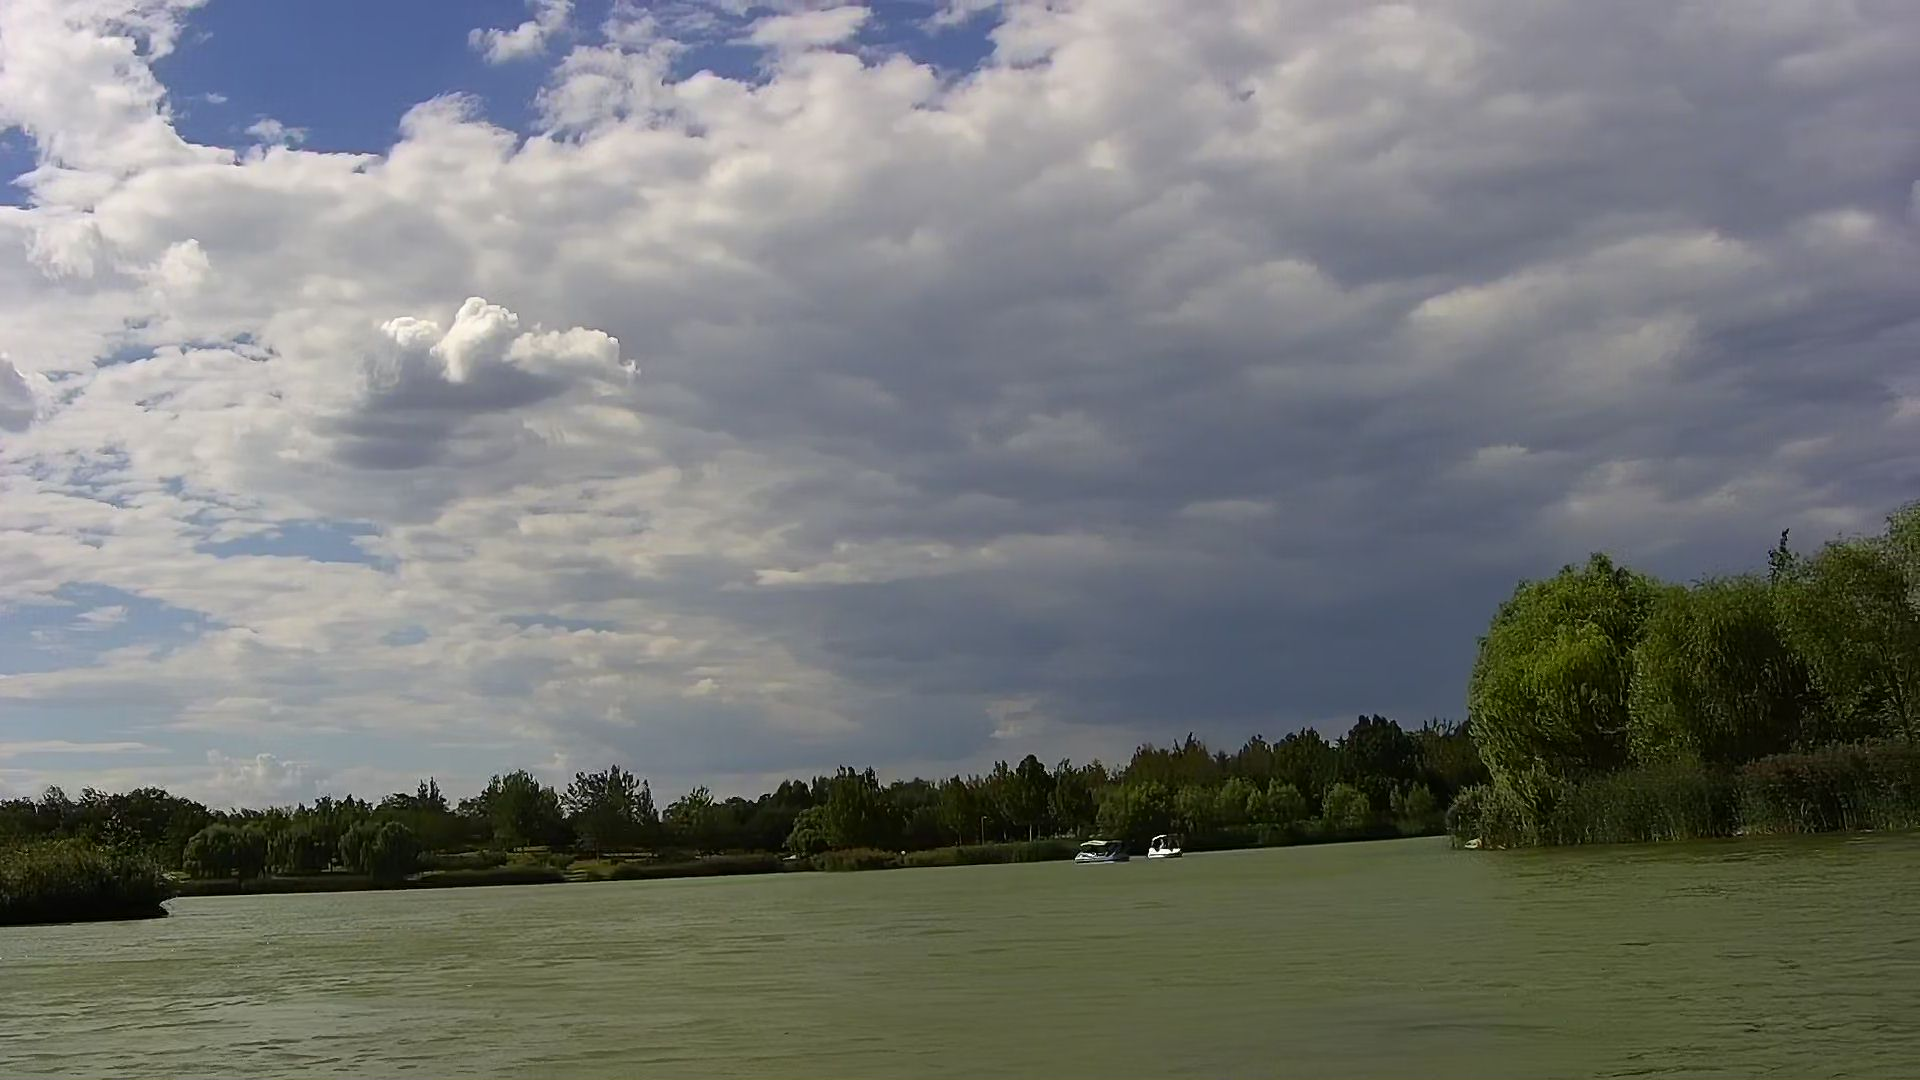boat: (1068, 839, 1133, 866), (1142, 835, 1185, 861)
rock: (1462, 832, 1486, 855)
